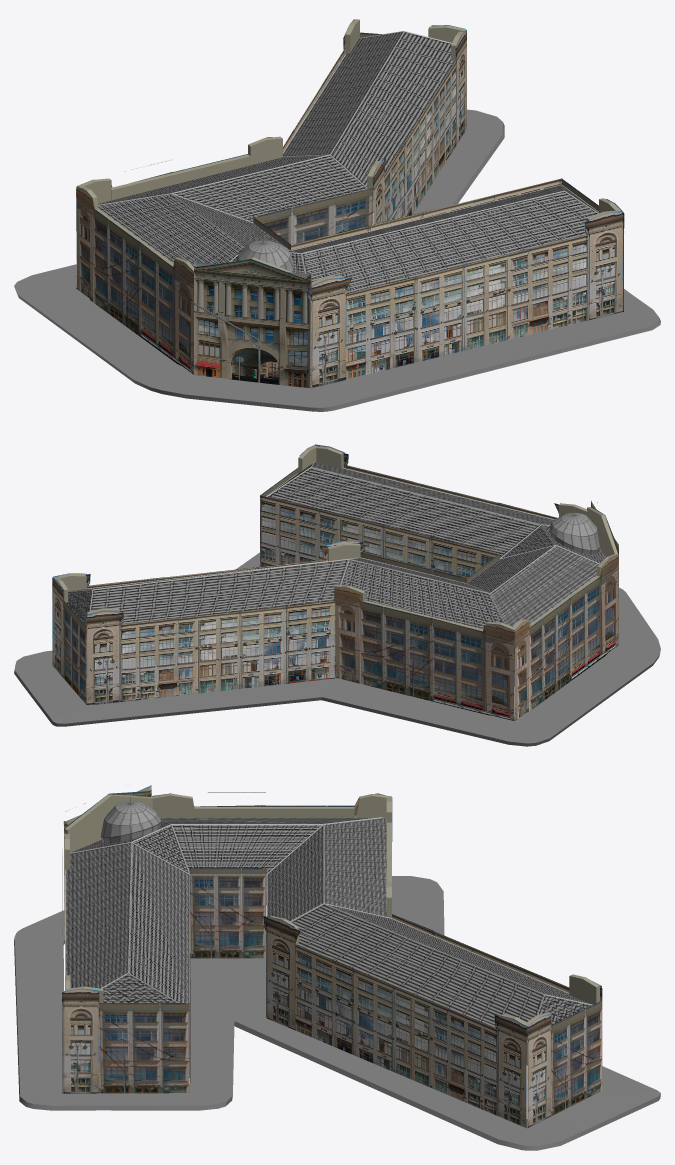
File: psBankY.fbx
3 views of the same model, one above another, from view 1: azimuth 30°, elevation 25°; view 2: azimuth 150°, elevation 25°; view 3: azimuth 270°, elevation 25° (orthographic). The views are drawn at different scales.
Parts seen in each view (by area): view 1: PSBank.001; view 2: PSBank.001; view 3: PSBank.001.
Part boxes in pixels (x1,y1,x2,y2): PSBank.001: (14,19,660,411); PSBank.001: (14,444,660,746); PSBank.001: (14,785,660,1150).
Bounding box in the file's own units: 2722 × 673 × 2746.
Materials: 10 (7 with a texture image).
